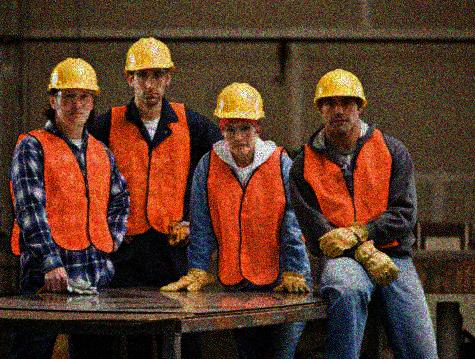helmet: (213, 83, 268, 158), (47, 55, 100, 126), (123, 35, 175, 105), (313, 68, 366, 133)
